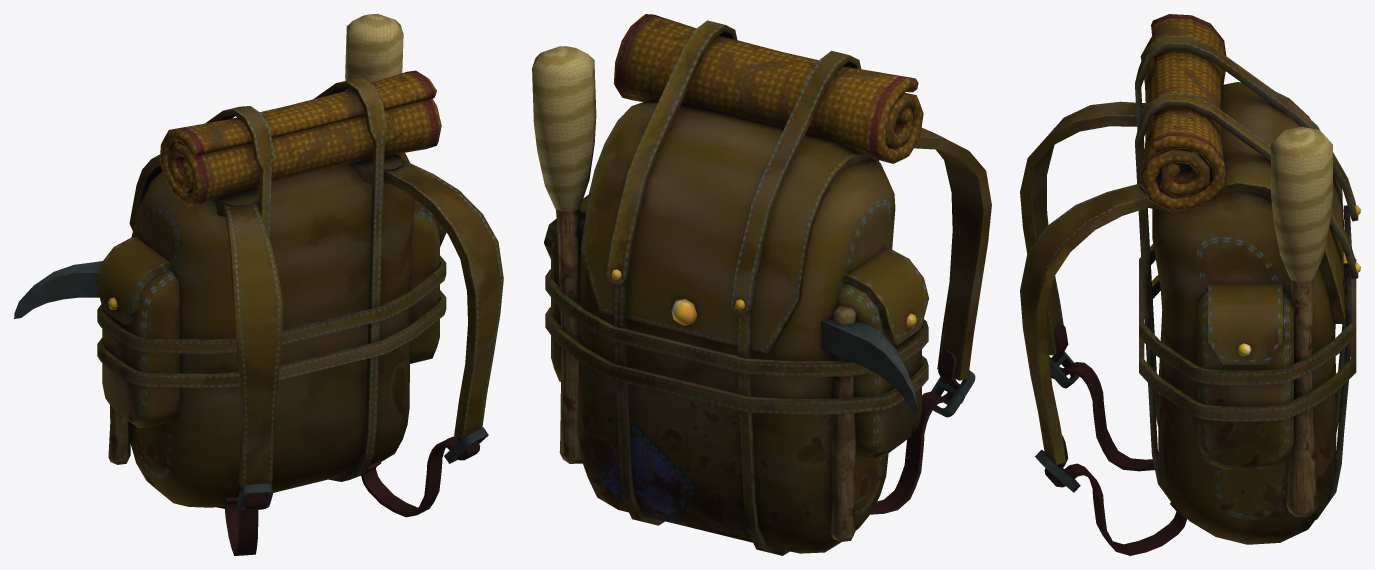
File: backpack.glb
3 renders of one model, left to right at view 1: azimuth 30°, elevation 25°; view 2: azimuth 150°, elevation 25°; view 3: azimuth 270°, elevation 25°, orthographic. The views are drawn at different scales.
Visible parts, largest first — view 1: Object_0; view 2: Object_0; view 3: Object_0.
Part boxes in pixels (<box>): Object_0: <box>14,14,503,555</box>; Object_0: <box>532,14,991,555</box>; Object_0: <box>1020,14,1360,555</box>.
Bounding box in the file's own units: 0.4613 × 0.5 × 0.3473.
Materials: 1 (1 with a texture image).
